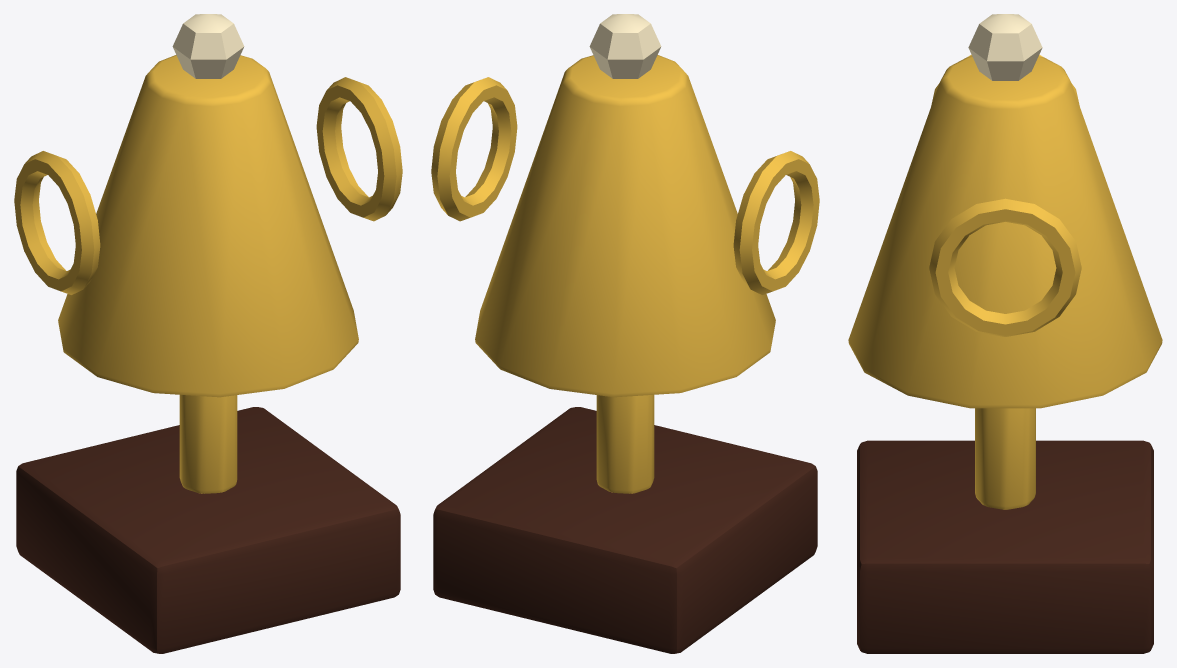
Rendered from DecoTrophy.fbx.
3 renders of one model, left to right at view 1: azimuth 30°, elevation 25°; view 2: azimuth 150°, elevation 25°; view 3: azimuth 270°, elevation 25°, orthographic. The views are drawn at different scales.
Visible parts, largest first — view 1: DecoTrophy; view 2: DecoTrophy; view 3: DecoTrophy.
Boxes of the visible parts, bbox=[...] form: DecoTrophy: bbox=[14, 14, 402, 653]; DecoTrophy: bbox=[431, 14, 819, 653]; DecoTrophy: bbox=[848, 14, 1162, 653].
Bounding box in the file's own units: 180 × 302 × 148.
